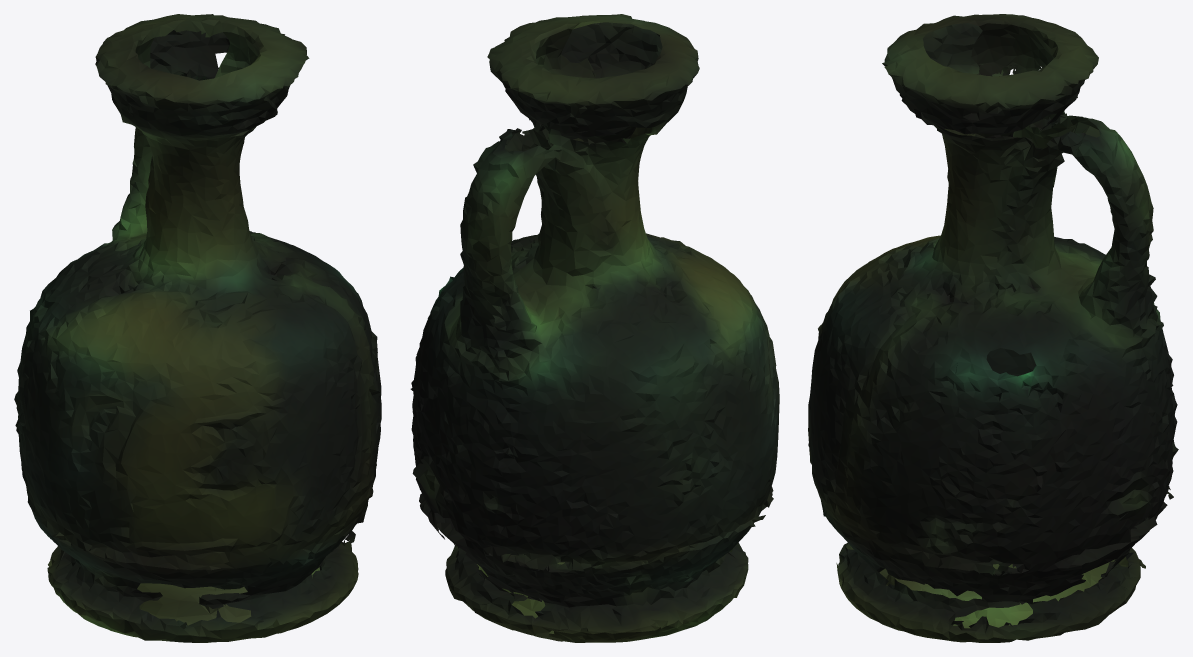
File: 0976_REDUX.obj
3 renders of one model, left to right at view 1: azimuth 30°, elevation 25°; view 2: azimuth 150°, elevation 25°; view 3: azimuth 270°, elevation 25°, orthographic.
Parts seen in each view (by area): view 1: TRIANGLES-0; view 2: TRIANGLES-0; view 3: TRIANGLES-0.
Part boxes in pixels (x1,y1,x2,y2): TRIANGLES-0: (14, 14, 381, 642); TRIANGLES-0: (410, 14, 779, 642); TRIANGLES-0: (808, 14, 1178, 642).
Bounding box in the file's own units: 49.63 × 80.29 × 49.84.
